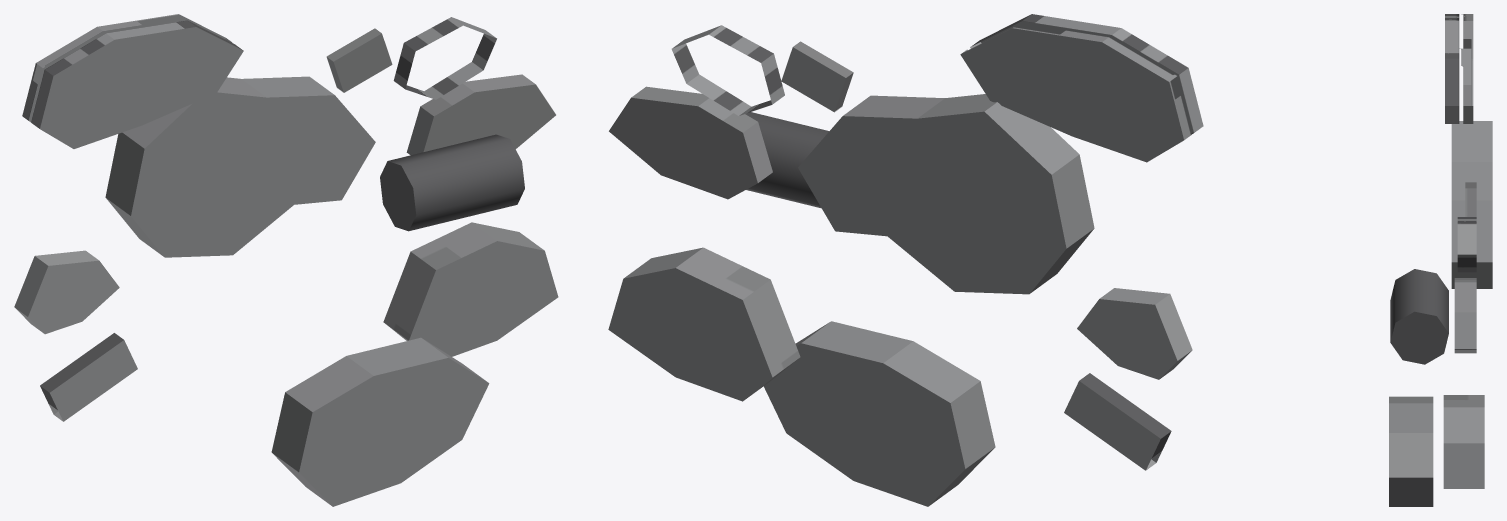
3 renders of one model, left to right at view 1: azimuth 30°, elevation 25°; view 2: azimuth 150°, elevation 25°; view 3: azimuth 270°, elevation 25°, orthographic. The views are drawn at different scales.
Bounding box in the file's own units: 0.9081 × 0.8066 × 0.486.
